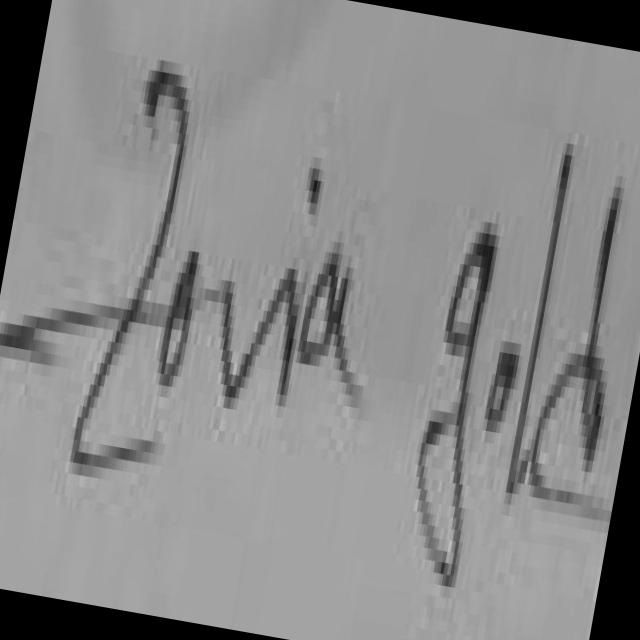Z: (49, 2, 218, 506)
a: (284, 200, 384, 432)
d: (519, 144, 640, 535)
g: (386, 152, 530, 588)
i: (261, 142, 335, 405)
l: (492, 116, 592, 523)
o: (127, 172, 226, 440), (468, 284, 536, 466)
v: (188, 217, 298, 433)
